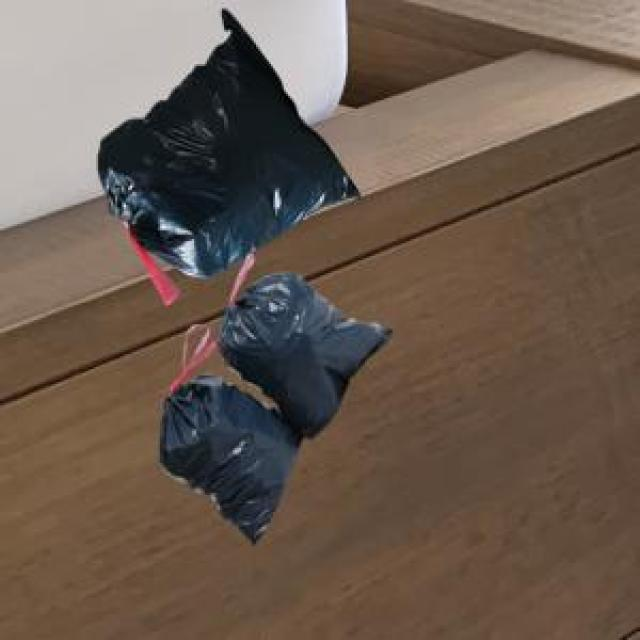miscellaneous trash: (94, 6, 356, 301), (156, 250, 388, 540)
